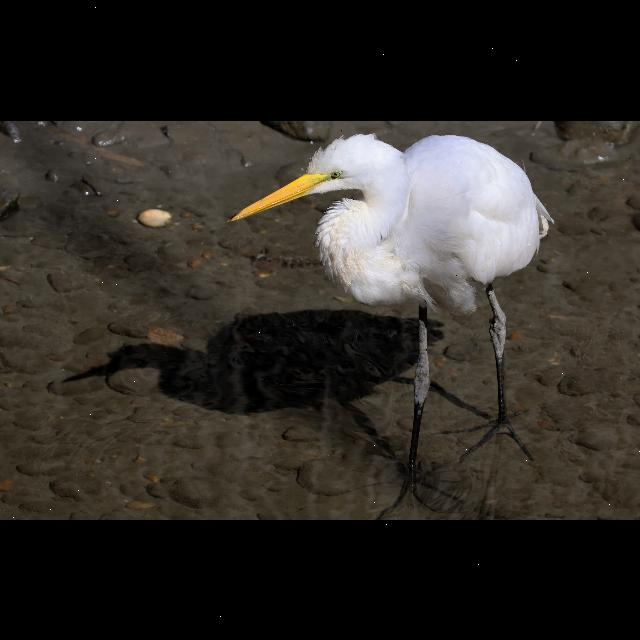egret: (232, 134, 552, 420)
